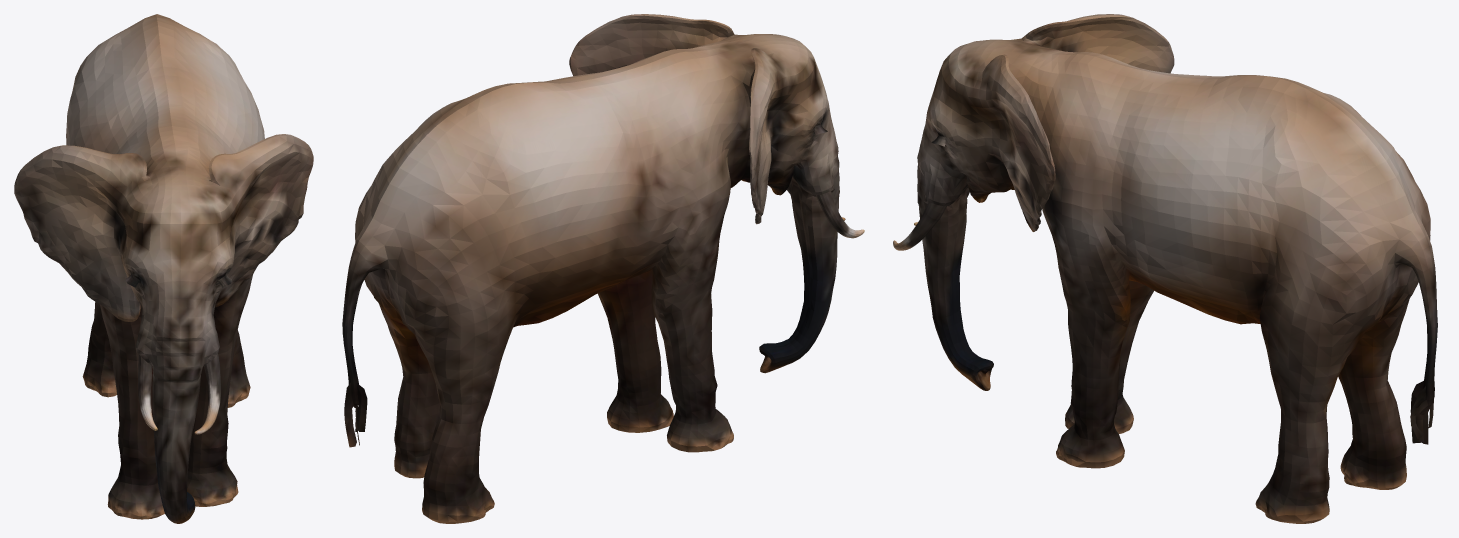
Rendered from elephant.mesh.glb.
3 views of the same model, side by side, from view 1: azimuth 30°, elevation 25°; view 2: azimuth 150°, elevation 25°; view 3: azimuth 270°, elevation 25° (orthographic). The views are drawn at different scales.
Parts seen in each view (by area): view 1: root; view 2: root; view 3: root.
Boxes of the visible parts, box(x1,y1,x2,y2) form: root: box(14, 14, 313, 523); root: box(342, 14, 864, 523); root: box(893, 14, 1437, 523).
Bounding box in the file's own units: 0.337 × 0.4126 × 0.5098.
1 material, 1 textured.
